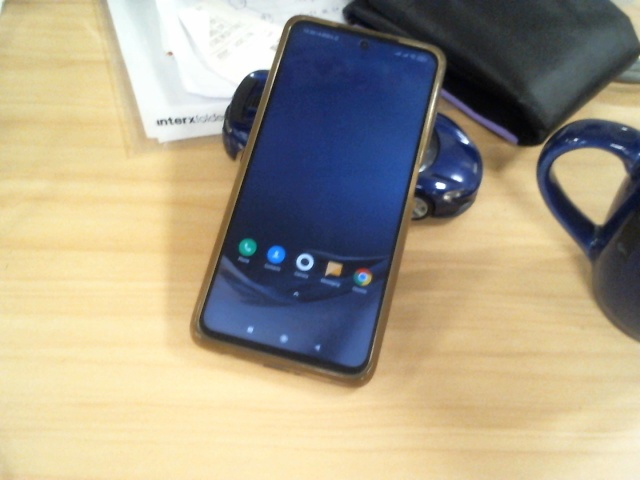handphone: (188, 14, 446, 390)
